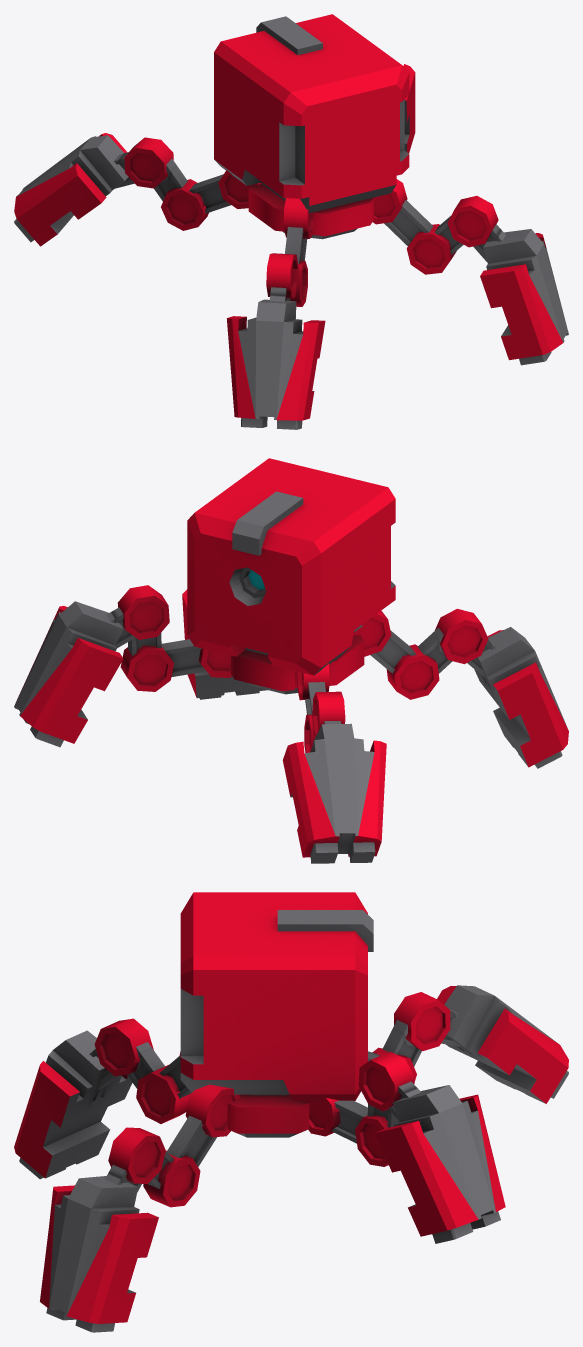
The model's file is Monster1_Move8.obj.
The picture shows the model from 3 angles, top to bottom: view 1: azimuth 30°, elevation 25°; view 2: azimuth 150°, elevation 25°; view 3: azimuth 270°, elevation 25°; orthographic projection. The views are drawn at different scales.
Visible parts, largest first — view 1: Box006, Object021, Object017, Object025, Object020, Object027, Object028, Object018, Object019, Object026, Object022, Object024 (+1 smaller); view 2: Box006, Object025, Object013, Object021, Object016, Object023, Object024, Object015, Object014, Object022, Object017, Object028 (+1 smaller); view 3: Box006, Object013, Object017, Object021, Object025, Object018, Object020, Object023, Object016, Object028, Object024, Object019 (+3 smaller).
Boxes of the visible parts, x1,y1,x2,y2 form: Box006: (214,14,409,239); Object021: (226,299,325,429); Object017: (480,229,568,365); Object025: (14,133,128,246); Object020: (447,195,505,261); Object027: (154,158,208,230); Object028: (114,137,173,188); Object018: (373,179,433,245); Object019: (406,216,463,274); Object026: (189,170,261,213); Object022: (283,198,313,264); Object024: (266,253,298,301); Box006: (187,458,395,694); Object025: (282,723,386,863); Object013: (14,601,123,747); Object021: (474,627,568,768); Object016: (106,585,169,648); Object023: (386,628,452,699); Object024: (434,608,495,678); Object015: (120,633,173,691); Object014: (161,639,231,677); Object022: (353,610,416,673); Object017: (182,589,267,699); Object028: (312,691,345,737); Box006: (180,892,373,1137); Object013: (374,1085,505,1243); Object017: (40,1176,158,1332); Object021: (14,1030,132,1179); Object025: (437,985,568,1103); Object018: (166,1084,240,1166); Object020: (105,1127,165,1192); Object023: (127,1042,191,1123); Object016: (358,1051,421,1118); Object028: (394,992,461,1050); Object024: (89,1018,153,1089); Object019: (143,1150,200,1207).
Size of the model in its own units: 155 by 114 by 175.
